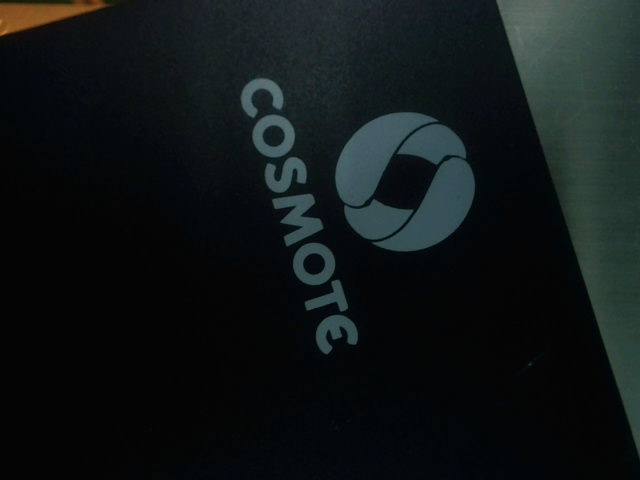AU_COSMOTE: (226, 70, 481, 365)
